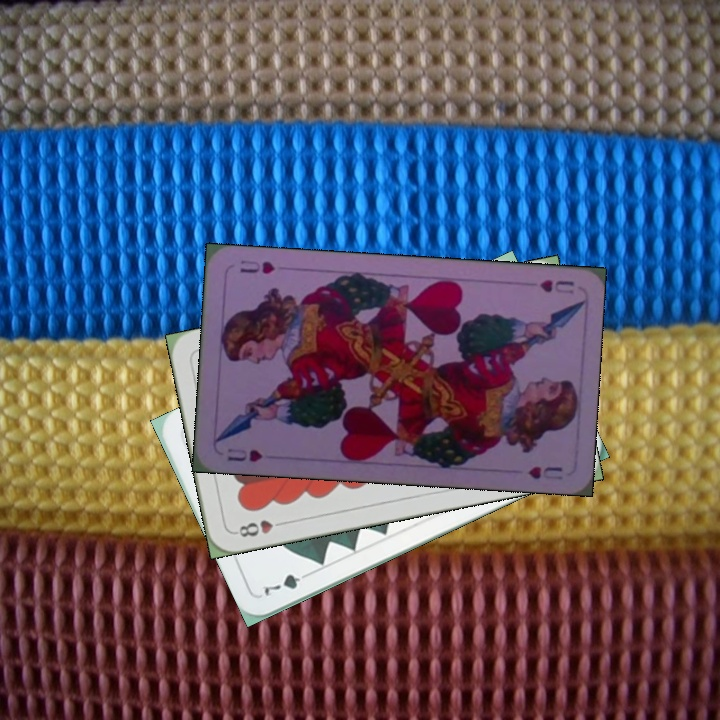G7: (256, 567, 315, 599)
H8: (231, 515, 289, 540)
HU: (535, 275, 577, 296), (223, 444, 264, 465)
